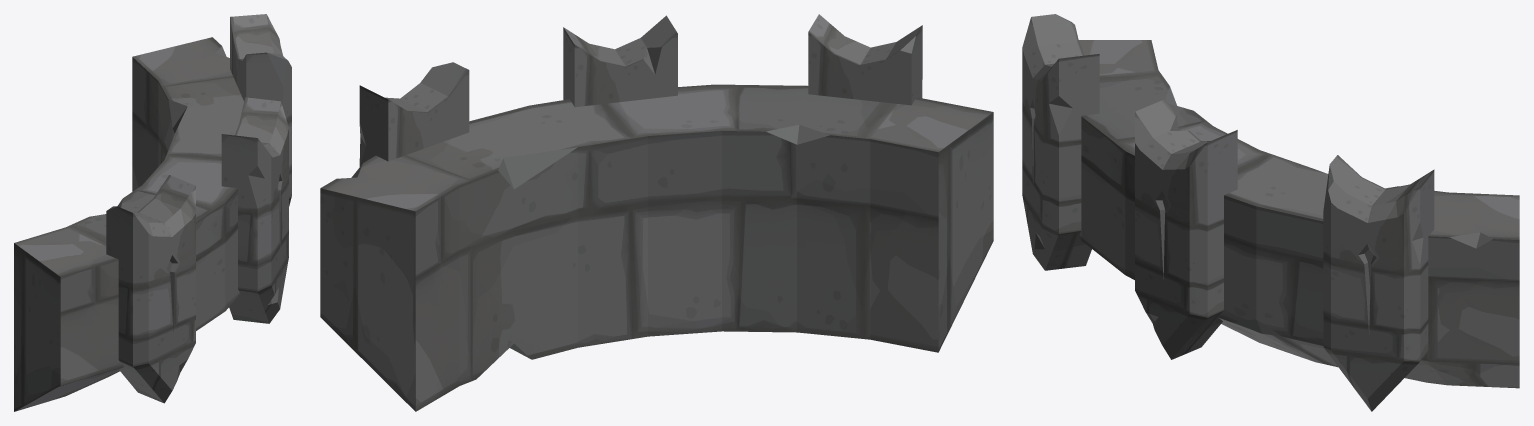
The model's file is SM_Bld_Battlements_Curve_01.fbx.
The picture shows the model from 3 angles, left to right: view 1: azimuth 30°, elevation 25°; view 2: azimuth 150°, elevation 25°; view 3: azimuth 270°, elevation 25°; orthographic projection. The views are drawn at different scales.
Parts seen in each view (by area): view 1: SM_Bld_Battlements_Curve_01; view 2: SM_Bld_Battlements_Curve_01; view 3: SM_Bld_Battlements_Curve_01.
Boxes of the visible parts, bbox=[...] form: SM_Bld_Battlements_Curve_01: bbox=[14, 14, 291, 411]; SM_Bld_Battlements_Curve_01: bbox=[320, 14, 993, 411]; SM_Bld_Battlements_Curve_01: bbox=[1022, 14, 1519, 411].
Bounding box in the file's own units: 361 × 203 × 363.
Materials: 1 (1 with a texture image).
